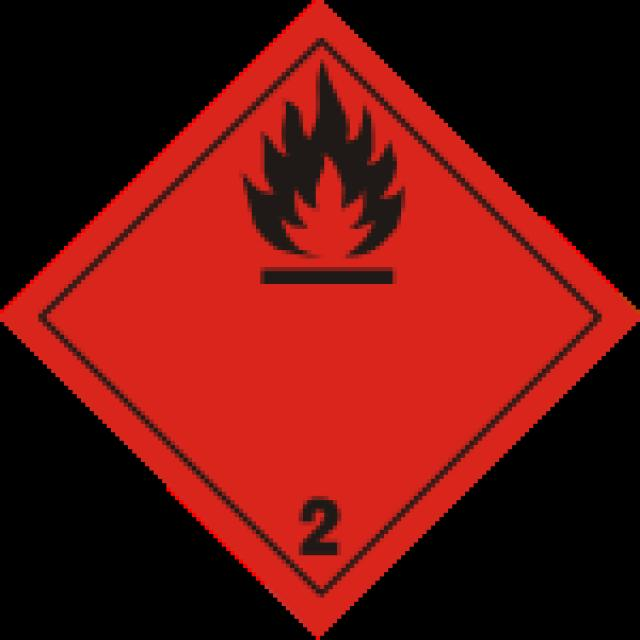Division 2-1: (4, 4, 640, 640)
